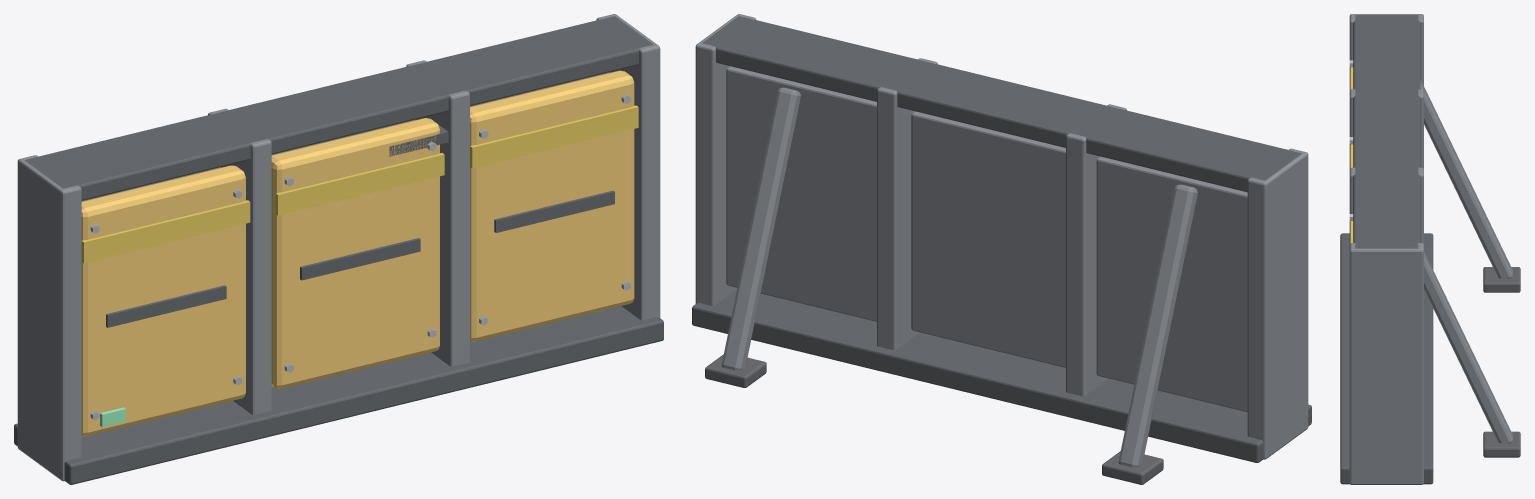
File: eng_barricade.fbx
The picture shows the model from 3 angles, left to right: view 1: azimuth 30°, elevation 25°; view 2: azimuth 150°, elevation 25°; view 3: azimuth 270°, elevation 25°; orthographic projection. The views are drawn at different scales.
Visible parts, largest first — view 1: eng_barricade; view 2: eng_barricade; view 3: eng_barricade.
Boxes of the visible parts, <box> form: eng_barricade: <box>14,14,663,484</box>; eng_barricade: <box>692,14,1311,484</box>; eng_barricade: <box>1340,14,1520,484</box>.
Size of the model in its own units: 3.02 by 1.4 by 0.97.
